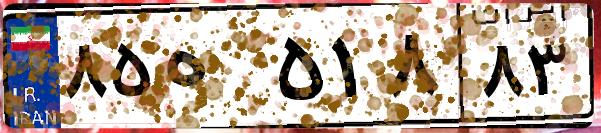1: (330, 28, 385, 110)
3: (525, 38, 570, 115)
5: (270, 28, 330, 110), (110, 28, 158, 98)
8: (385, 28, 445, 110), (57, 26, 110, 100), (475, 38, 525, 113)
ه: (158, 20, 270, 120)
